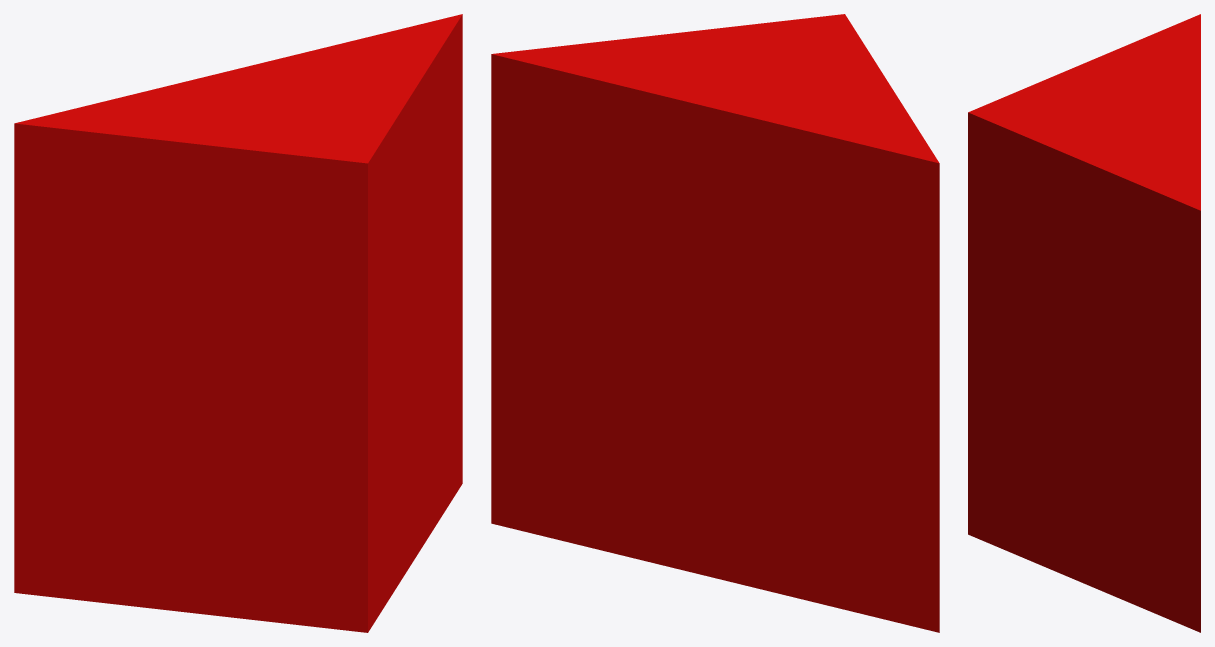
3 renders of one model, left to right at view 1: azimuth 30°, elevation 25°; view 2: azimuth 150°, elevation 25°; view 3: azimuth 270°, elevation 25°, orthographic. The views are drawn at different scales.
Parts seen in each view (by area): view 1: 000.Element.000; view 2: 000.Element.000; view 3: 000.Element.000.
Boxes of the visible parts, <box> form: 000.Element.000: <box>14,14,462,632</box>; 000.Element.000: <box>491,14,939,632</box>; 000.Element.000: <box>968,14,1200,632</box>.
Size of what is drawn, in the model's own units: 1 by 1 by 0.5.
